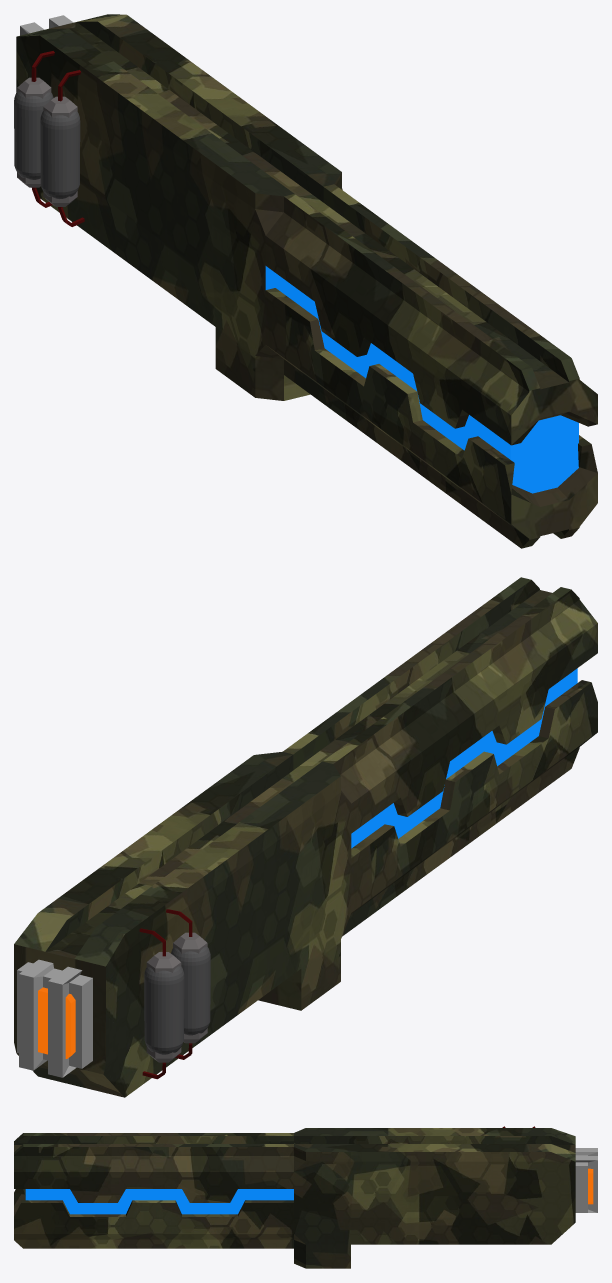
The model's file is gerkj.glb.
The picture shows the model from 3 angles, top to bottom: view 1: azimuth 30°, elevation 25°; view 2: azimuth 150°, elevation 25°; view 3: azimuth 270°, elevation 25°; orthographic projection. The views are drawn at different scales.
Visible parts, largest first — view 1: Cube.009, Cube.010, Sphere.001, Sphere; view 2: Cube.009, Cube.008, Cube.010, Sphere, Sphere.001, Cube.007; view 3: Cube.009, Cube.010, Cube.008, Cube.007.
Part boxes in pixels (x1,y1,x2,y2): Cube.009: [16, 14, 597, 548]; Cube.010: [265, 266, 578, 493]; Sphere.001: [40, 111, 80, 198]; Sphere: [14, 91, 53, 179]; Cube.009: [14, 577, 597, 1097]; Cube.008: [17, 959, 92, 1077]; Cube.010: [351, 668, 577, 848]; Sphere: [144, 966, 184, 1054]; Sphere.001: [171, 947, 210, 1035]; Cube.007: [38, 987, 75, 1058]; Cube.009: [14, 1128, 575, 1268]; Cube.010: [25, 1189, 293, 1214]; Cube.008: [575, 1148, 597, 1212]; Cube.007: [588, 1168, 593, 1204].
Bounding box in the file's own units: 0.9658 × 1.46 × 6.63.
Materials: 10 (1 with a texture image).
